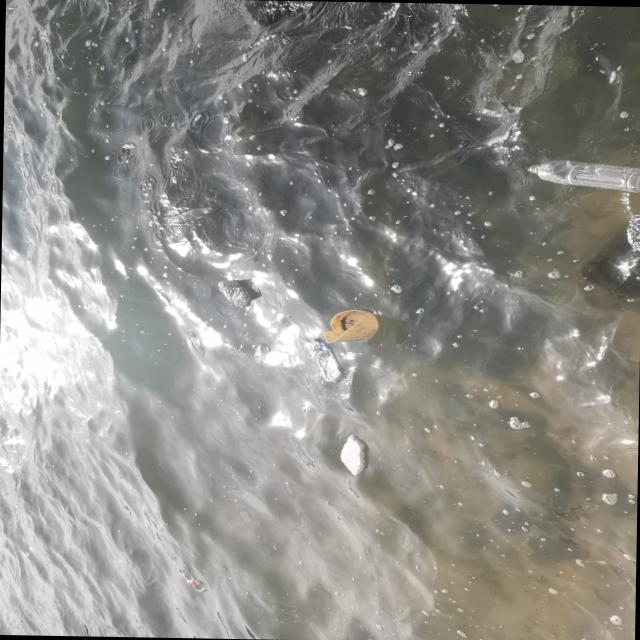foam: (337, 436, 368, 477), (218, 279, 256, 308)
plastic bottle: (521, 159, 640, 192), (308, 338, 342, 383), (169, 205, 217, 226), (175, 568, 209, 593)
